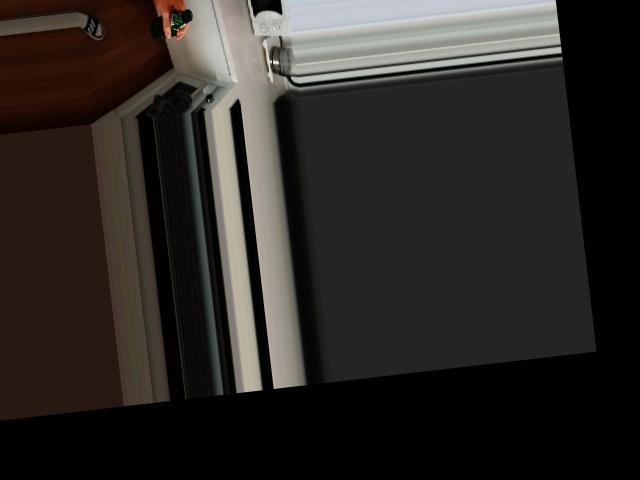beer: (147, 8, 194, 40)
